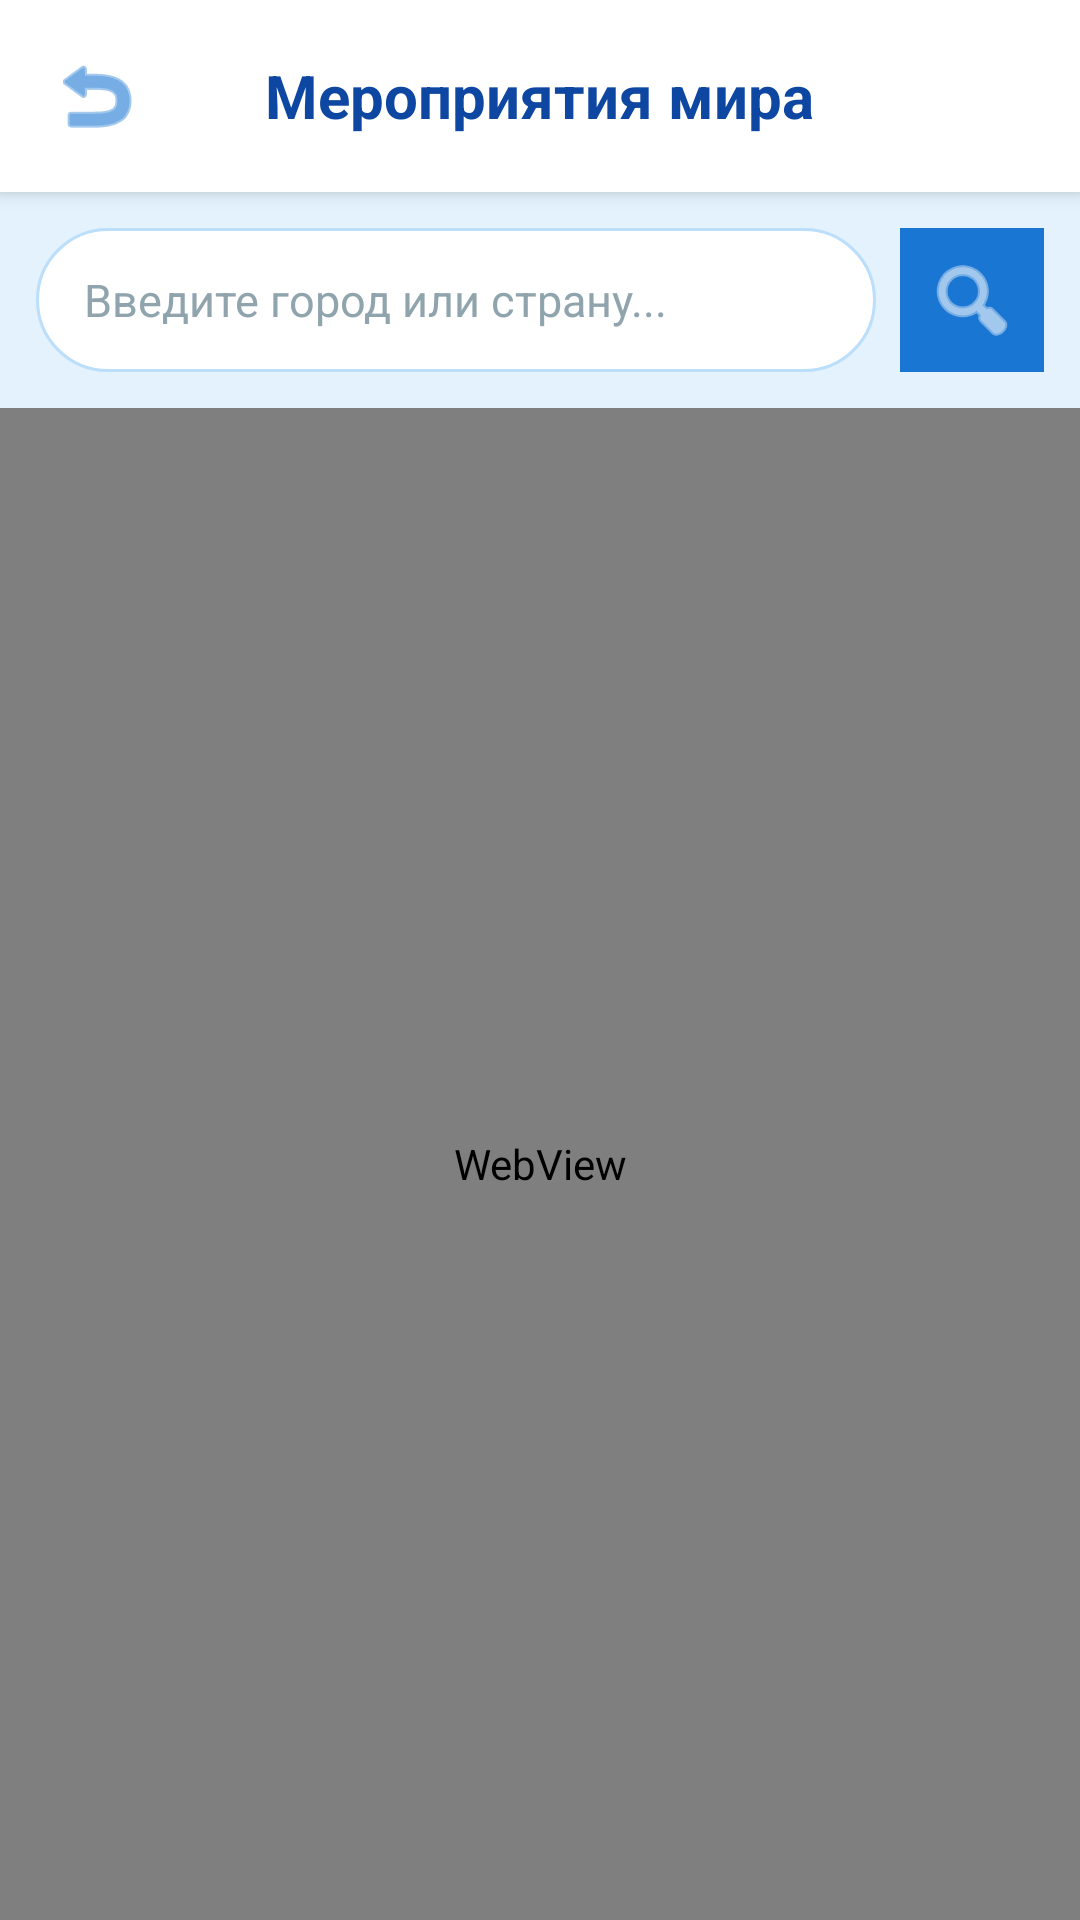

Screen size 1080 × 1920. Icon name, then its box in pixels as [left=x1, top=y1, right=x2, bottom=y2]:
revert: [left=63, top=65, right=132, bottom=128]
search: [left=900, top=228, right=1044, bottom=372]
